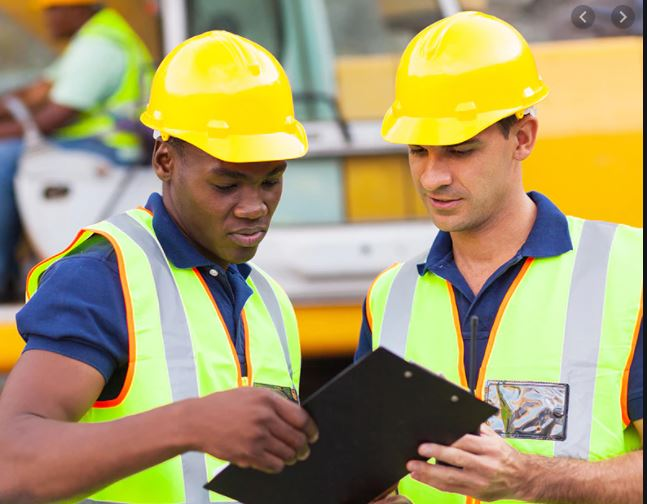Safety Helmet: (133, 18, 319, 273), (375, 6, 550, 254)
